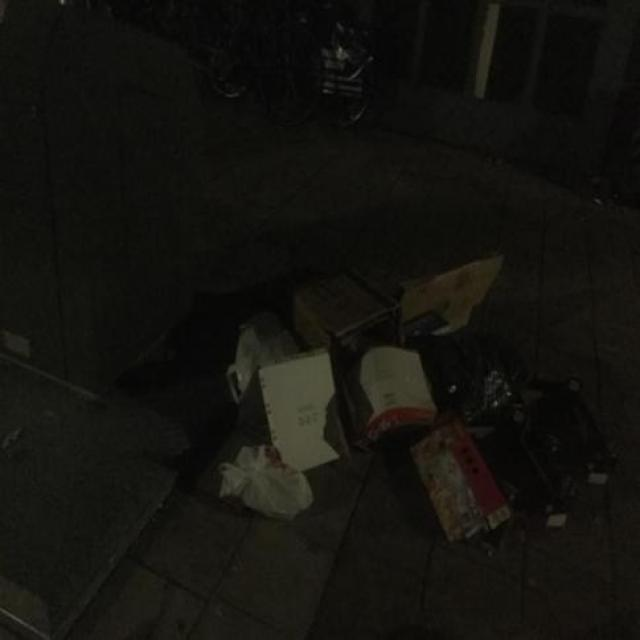Anorganik: (404, 424, 516, 536)
